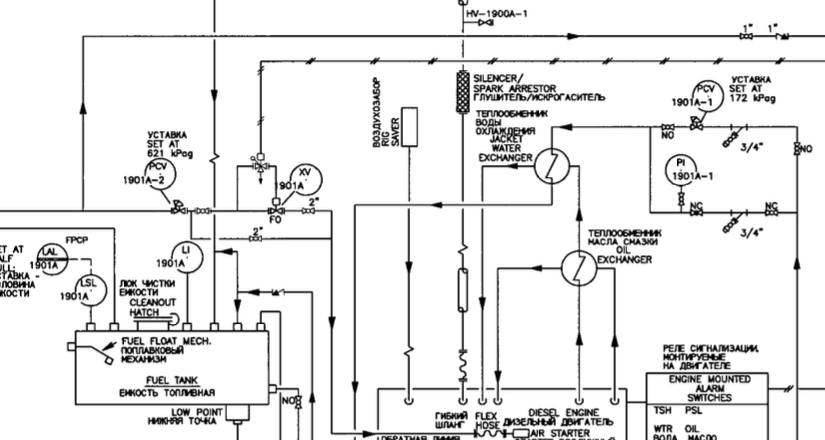Instrument-offset: (662, 149, 718, 189), (669, 76, 726, 113), (121, 157, 183, 191), (152, 238, 206, 275), (59, 272, 110, 308), (278, 159, 325, 196), (29, 244, 74, 276)
